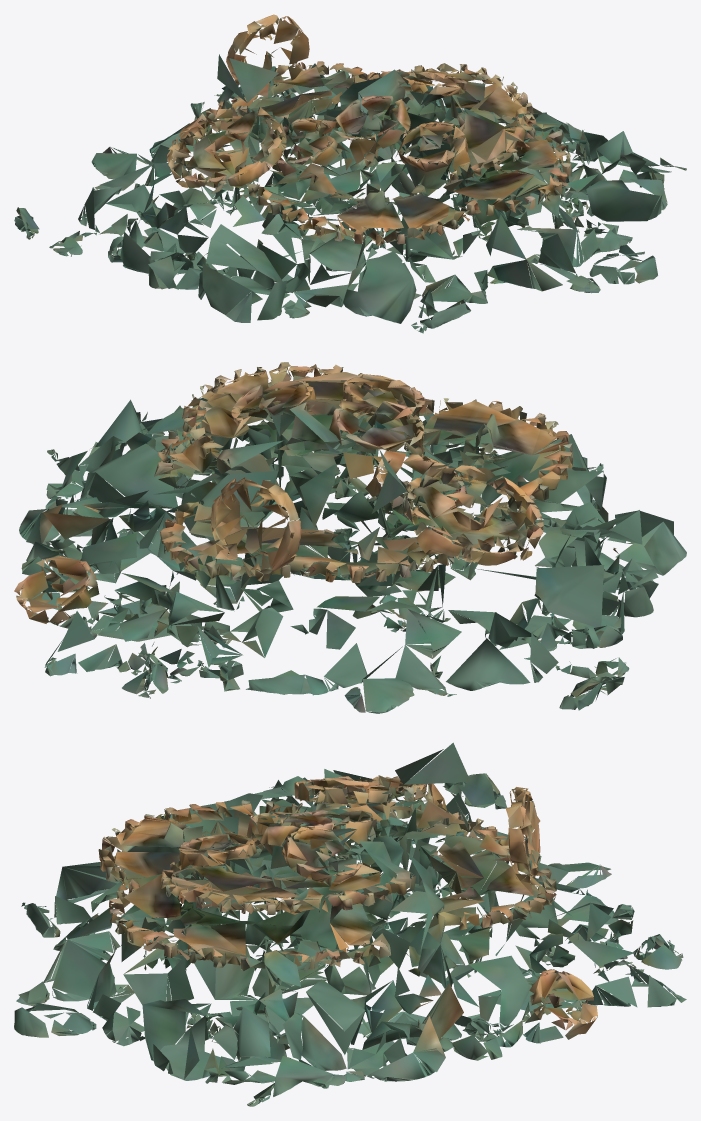
The model's file is scrap_cluster_01_a.glb.
3 views of the same model, one above another, from view 1: azimuth 30°, elevation 25°; view 2: azimuth 150°, elevation 25°; view 3: azimuth 270°, elevation 25° (orthographic). The views are drawn at different scales.
Parts seen in each view (by area): view 1: scrap_cluster_01_a_mesh_01; view 2: scrap_cluster_01_a_mesh_01; view 3: scrap_cluster_01_a_mesh_01.
Boxes of the visible parts, <box> form: scrap_cluster_01_a_mesh_01: <box>14,14,686,333</box>; scrap_cluster_01_a_mesh_01: <box>14,362,686,713</box>; scrap_cluster_01_a_mesh_01: <box>14,742,686,1106</box>.
Size of the model in its own units: 1.89 by 0.456 by 1.72.
1 material, 1 textured.
